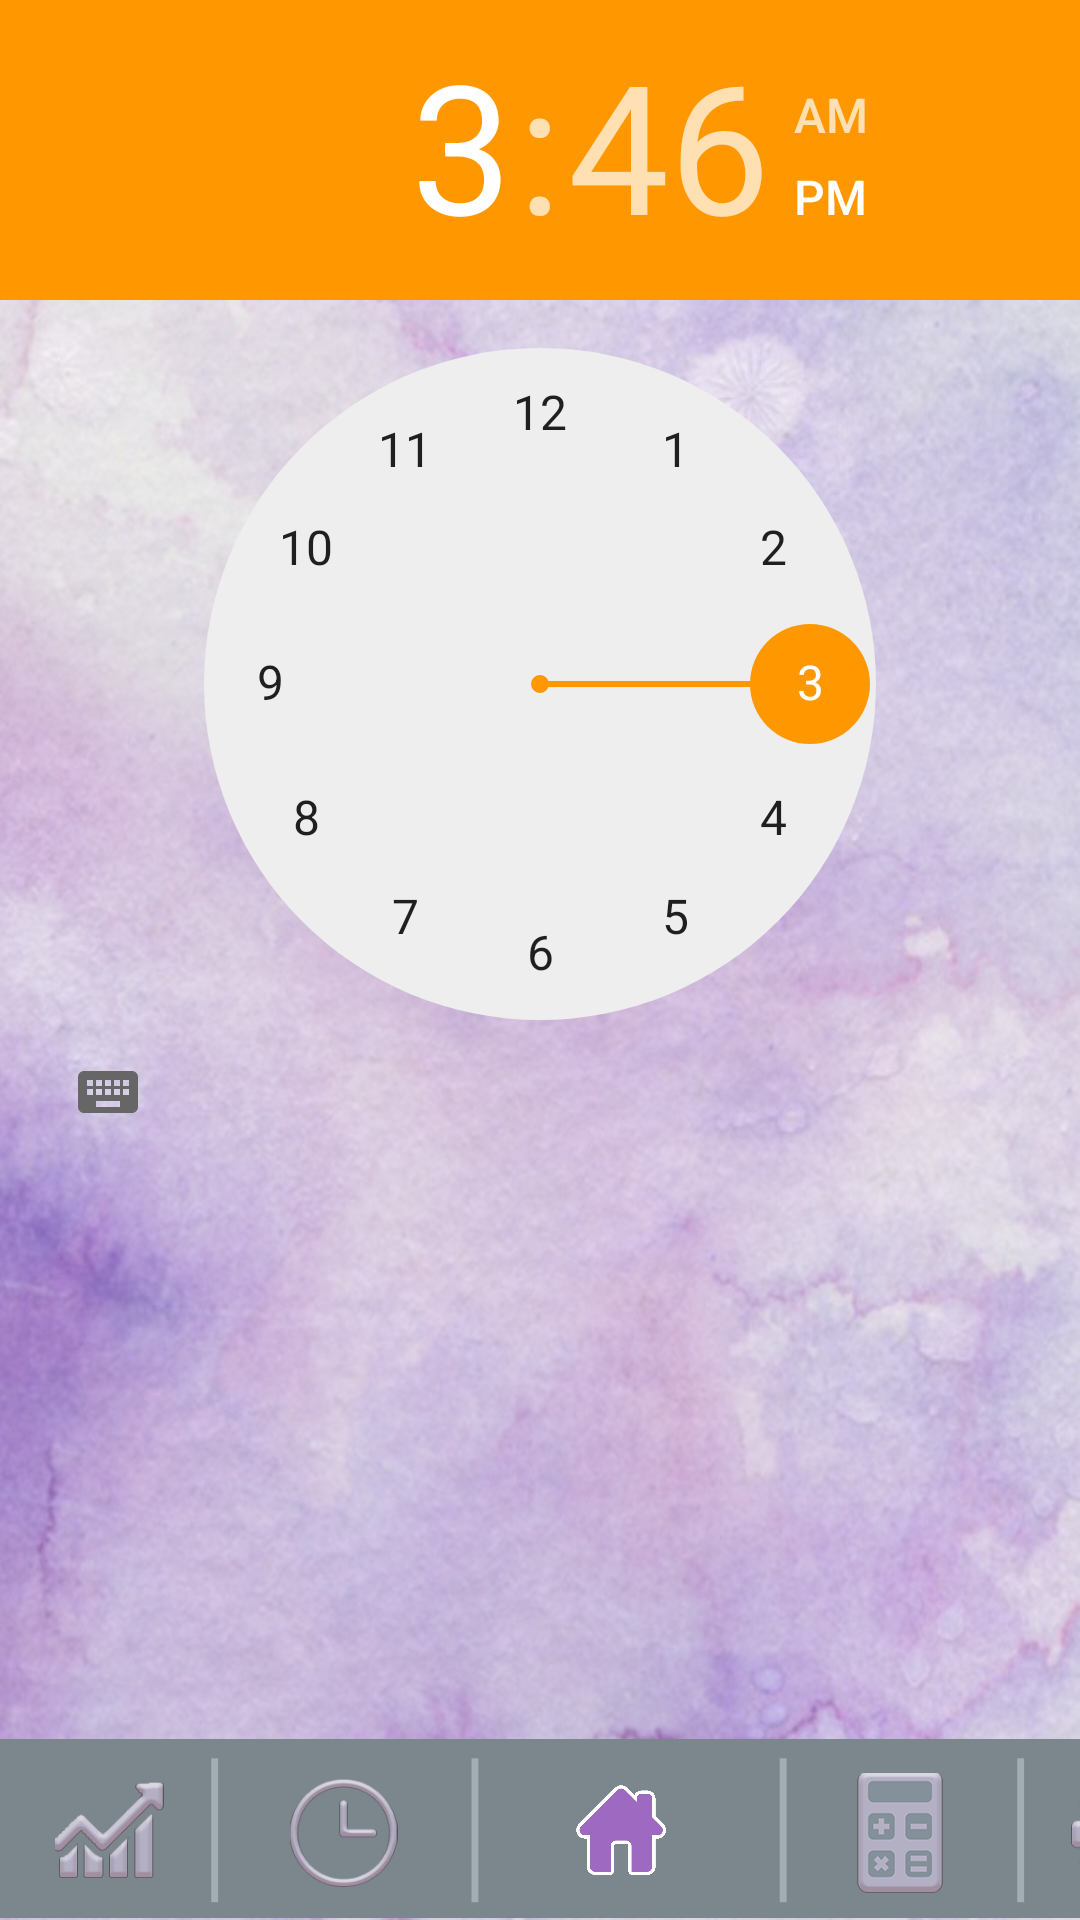

Where icons sit on this 1080px x 1920px app screen, as (x1, y1, x2, y2):
alarmas: (290, 1779, 398, 1887)
calculadora: (857, 1773, 943, 1893)
graficas: (55, 1782, 164, 1878)
home: (576, 1785, 666, 1875)
